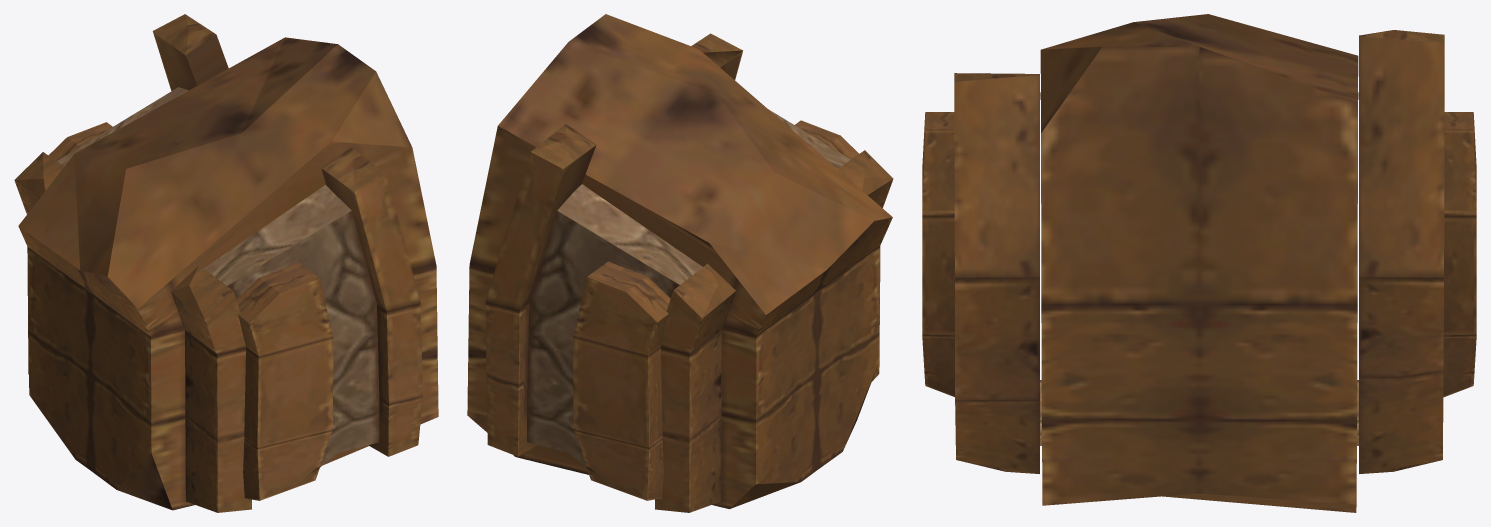
The model's file is shakian_object_dimension_brokenprop01_04.FBX.
3 views of the same model, side by side, from view 1: azimuth 30°, elevation 25°; view 2: azimuth 150°, elevation 25°; view 3: azimuth 270°, elevation 25° (orthographic). The views are drawn at different scales.
Parts seen in each view (by area): view 1: shakian_object_dimension_brokenprop01_04; view 2: shakian_object_dimension_brokenprop01_04; view 3: shakian_object_dimension_brokenprop01_04.
Boxes of the visible parts, x1,y1,x2,y2 form: shakian_object_dimension_brokenprop01_04: (14, 14, 438, 512); shakian_object_dimension_brokenprop01_04: (467, 14, 893, 512); shakian_object_dimension_brokenprop01_04: (922, 14, 1476, 512).
Size of the model in its own units: 2.1 by 2.51 by 2.55.
